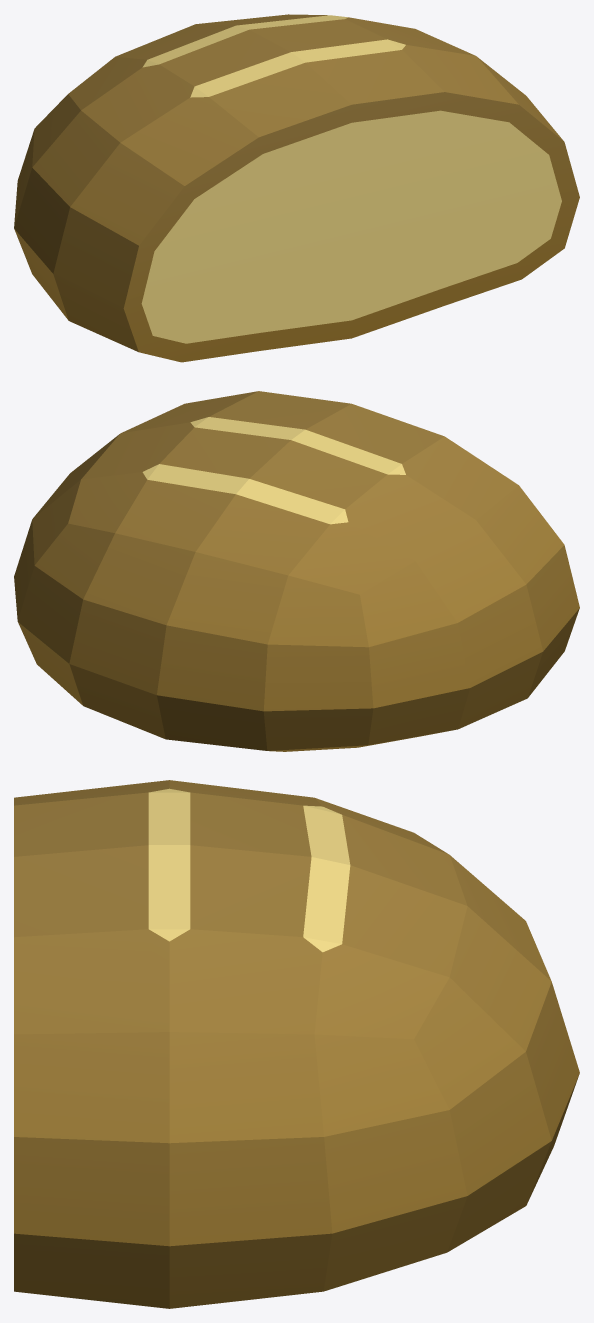
File: bread_2b.fbx
The picture shows the model from 3 angles, top to bottom: view 1: azimuth 30°, elevation 25°; view 2: azimuth 150°, elevation 25°; view 3: azimuth 270°, elevation 25°; orthographic projection. The views are drawn at different scales.
Parts seen in each view (by area): view 1: bread_2b; view 2: bread_2b; view 3: bread_2b.
Boxes of the visible parts, bbox=[...] form: bread_2b: bbox=[14, 14, 579, 362]; bread_2b: bbox=[14, 391, 579, 751]; bread_2b: bbox=[14, 780, 579, 1308].
Bounding box in the file's own units: 0.3494 × 0.1693 × 0.2409.
